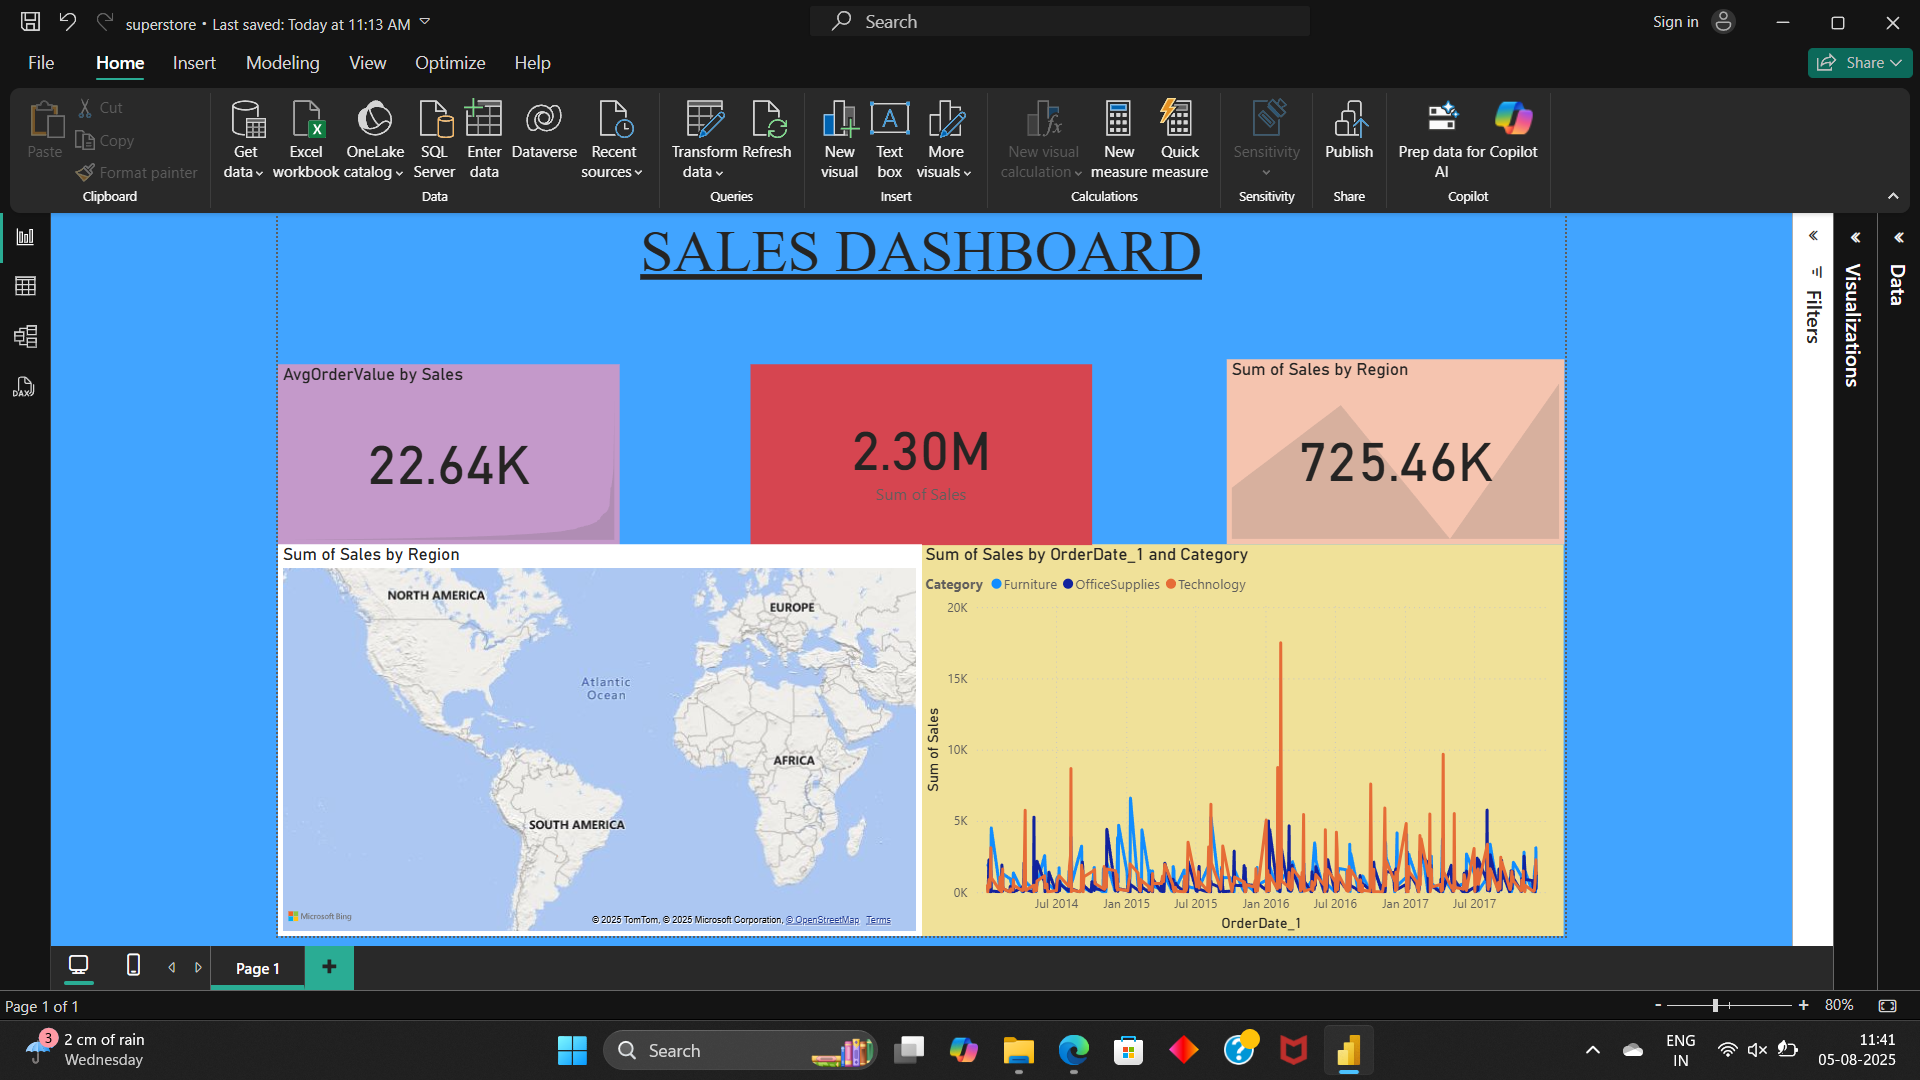

What the dashboard file says about the page in this screenshot:
{"tool":"powerbi","page":{"name":"Page 1","canvas":[1280,720],"ordinal":0},"visuals":[{"type":"lineChart","fields":{"Category":["Sample_ Superstore.OrderDate_1"],"Y":["Sum(Sample_ Superstore.Sales)"],"Series":["Sample_ Superstore.Category"]},"box":[640,330,640,390],"z":0},{"type":"card","fields":{"Values":["Sum(Sample_ Superstore.Sales)"]},"box":[470,150,340,180],"z":1000},{"type":"kpi","fields":{"Indicator":["Sum(Sample_ Superstore.Sales)"],"TrendLine":["Sample_ Superstore.Region"]},"box":[944,146,336,184],"z":2000},{"type":"kpi","fields":{"Indicator":["Sample_ Superstore.AvgOrderValue"],"TrendLine":["Sample_ Superstore.Sales"]},"box":[0,150,340,180],"z":3000},{"type":"filledMap","fields":{"Category":["Sample_ Superstore.Region"],"X":["Sum(Sample_ Superstore.Sales)"]},"box":[0,330,640,390],"z":4000},{"type":"textbox","box":[0,0,1280,150],"z":4001}]}

Visuals, with their boxes on the page's 1280x720 design canvas (x1, y1, x2, y2). These are canvas units, not pixel positions in the 1920x1080 screenshot, which may show the page scaled, cropped or inside an application window:
lineChart - Sample_ Superstore.OrderDate_1 x Sum(Sample_ Superstore.Sales): 640:330:1280:720
card - Sum(Sample_ Superstore.Sales): 470:150:810:330
kpi - Sum(Sample_ Superstore.Sales) x Sample_ Superstore.Region: 944:146:1280:330
kpi - Sample_ Superstore.AvgOrderValue x Sample_ Superstore.Sales: 0:150:340:330
filledMap - Sample_ Superstore.Region x Sum(Sample_ Superstore.Sales): 0:330:640:720
textbox: 0:0:1280:150
